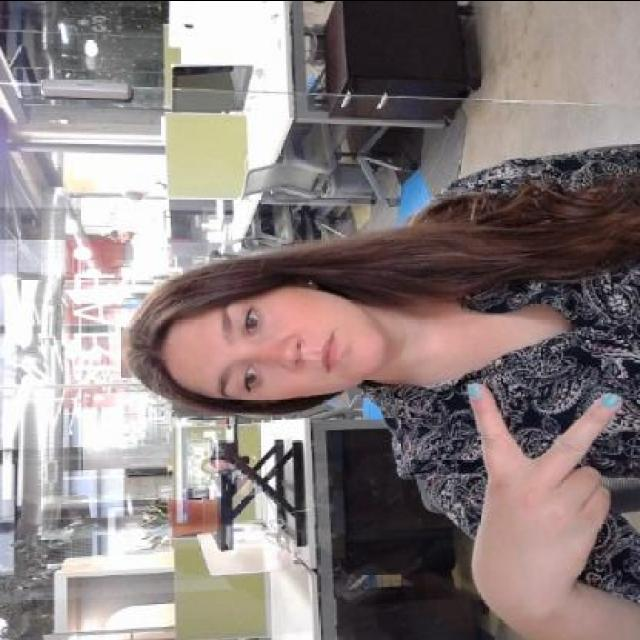Scissors: (463, 372, 634, 594)
